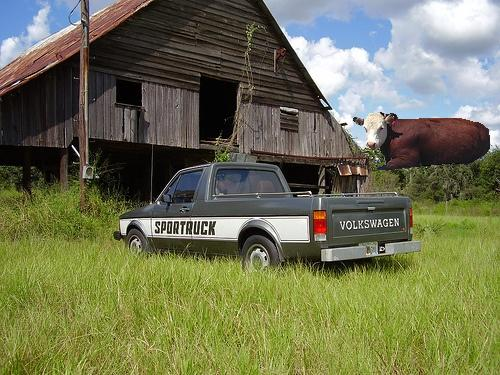tampered: (354, 113, 490, 170)
